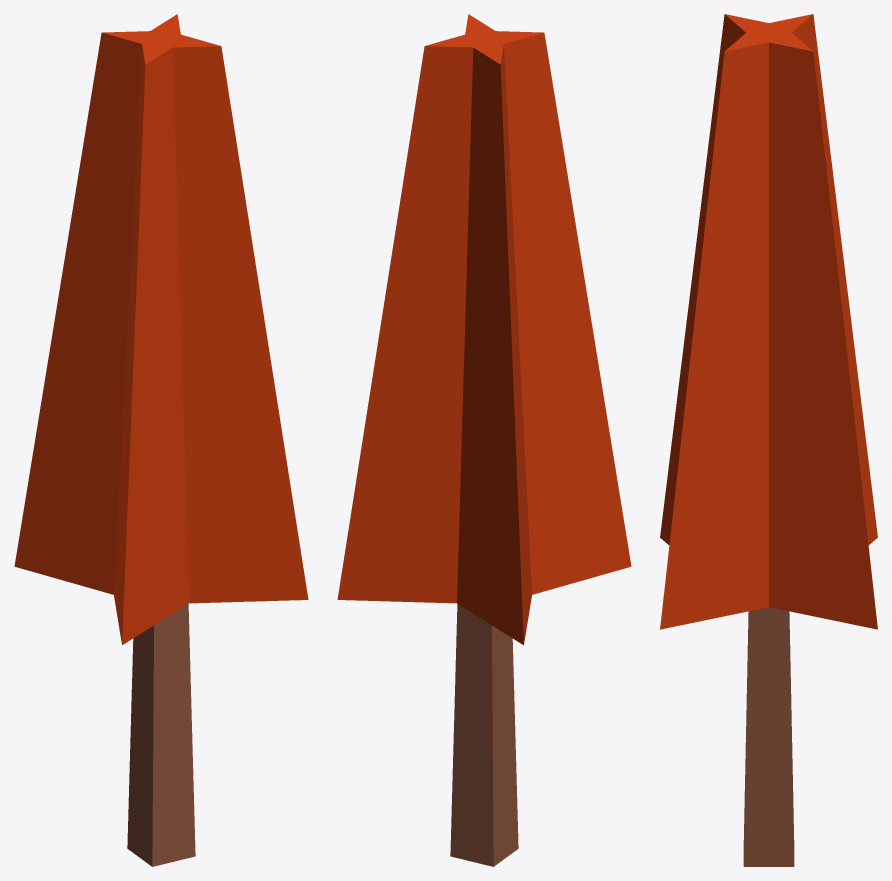
The model's file is Tree_27_summer_red_pal.fbx.
3 views of the same model, side by side, from view 1: azimuth 30°, elevation 25°; view 2: azimuth 150°, elevation 25°; view 3: azimuth 270°, elevation 25° (orthographic).
Visible parts, largest first — view 1: Tree_27_summer_red_pal; view 2: Tree_27_summer_red_pal; view 3: Tree_27_summer_red_pal.
Boxes of the visible parts, left/top/right/bottom form: Tree_27_summer_red_pal: left=14, top=14, right=308, bottom=866; Tree_27_summer_red_pal: left=337, top=14, right=631, bottom=866; Tree_27_summer_red_pal: left=660, top=14, right=877, bottom=866.
Size of the model in its own units: 63.19 by 263 by 63.19.
